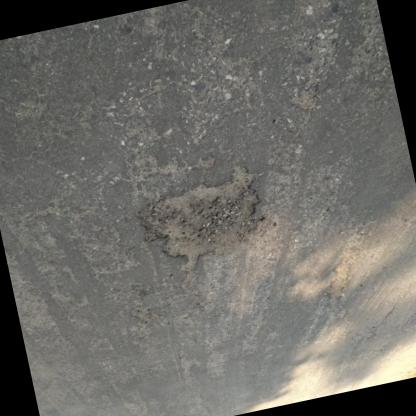pothole: (126, 161, 278, 280), (284, 83, 322, 116)
